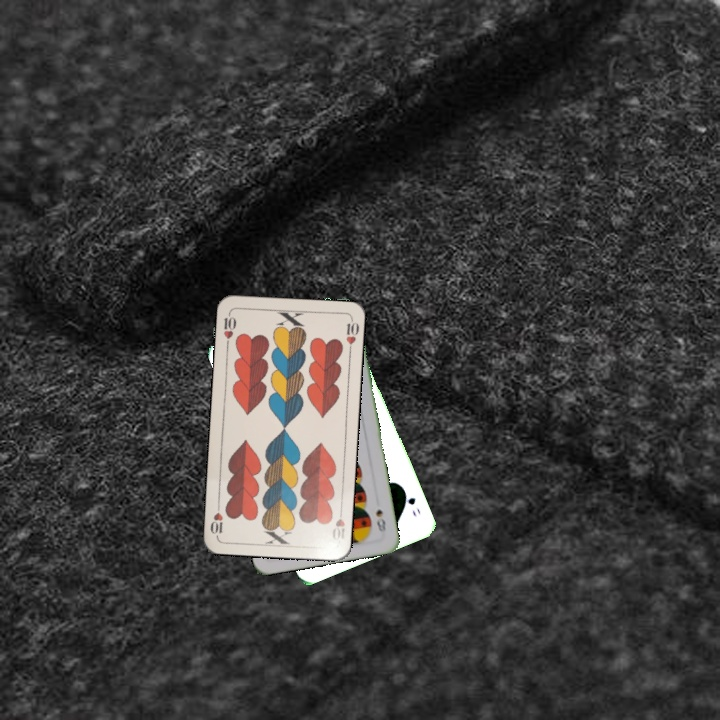GO: (399, 485, 423, 519)
H10: (219, 309, 239, 349), (328, 505, 347, 543)
S8: (372, 505, 388, 534)
